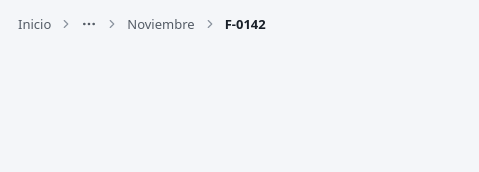
Scenario: 02 CabeceraPagina y Migas › pliega las migas del medio y las enseña al pulsar los puntos
The image size is (479, 172).
Expected: the text "Facturación" is not shown
Click the button named "Ver la ruta completa": [89, 24] box left=75, top=12, right=103, bottom=36
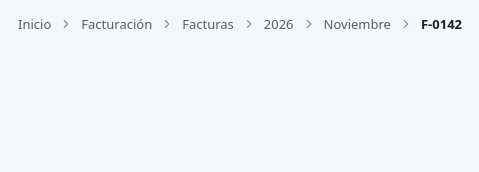
Result: the button "Facturación" is shown at left=75, top=12, right=158, bottom=36
